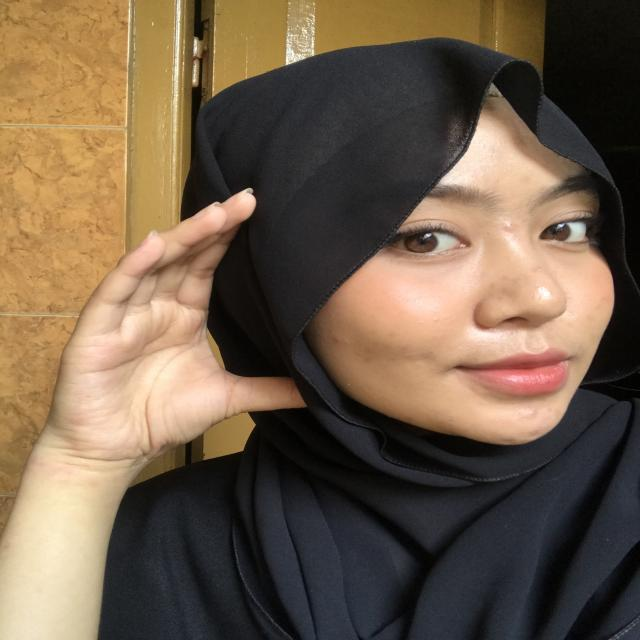mendengar: (55, 189, 306, 458)
